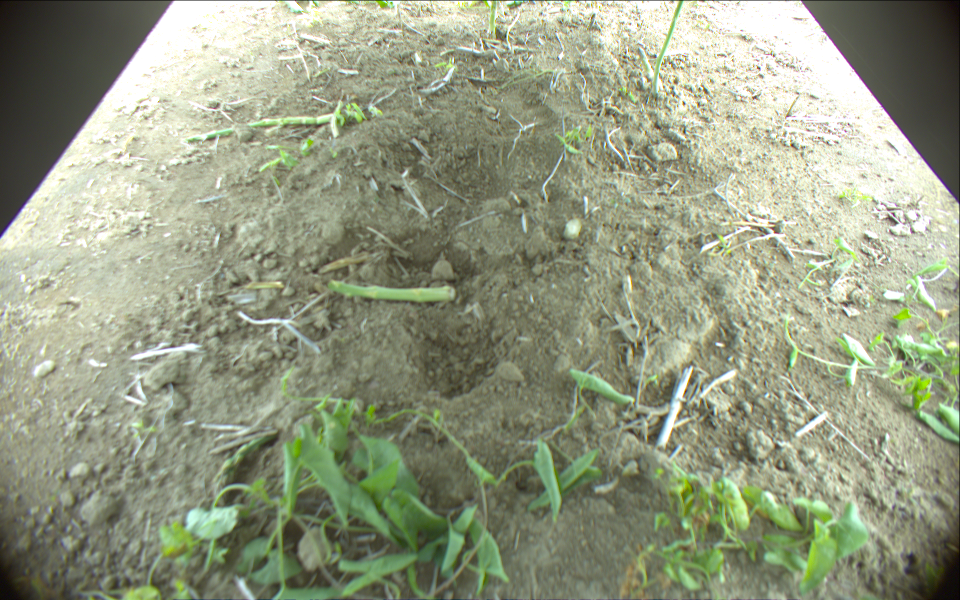aspa: (184, 111, 342, 143), (327, 280, 458, 303), (653, 1, 682, 95), (329, 95, 347, 138), (638, 47, 654, 79), (488, 1, 497, 39)
